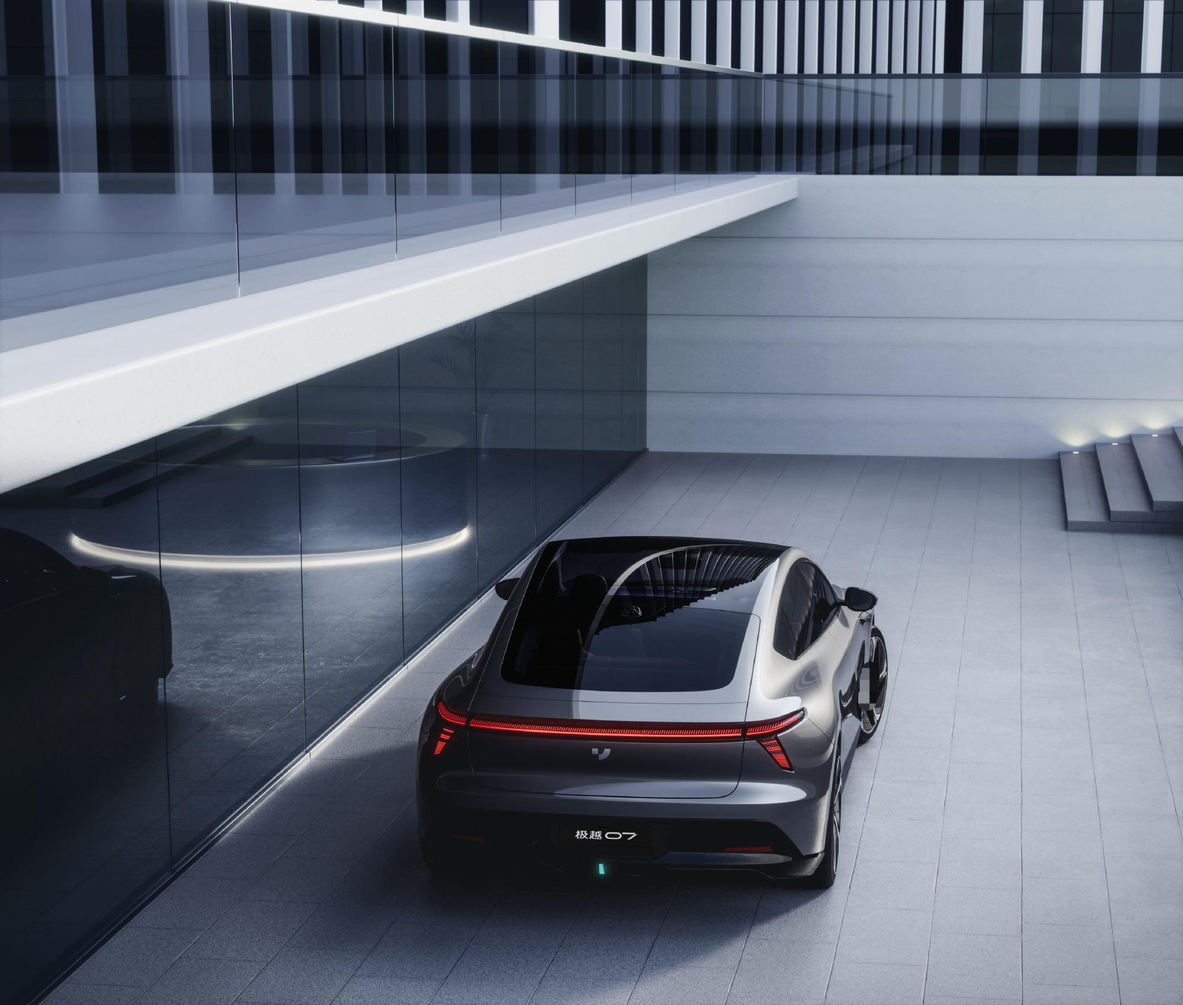JIYUE: (592, 748, 611, 760)
